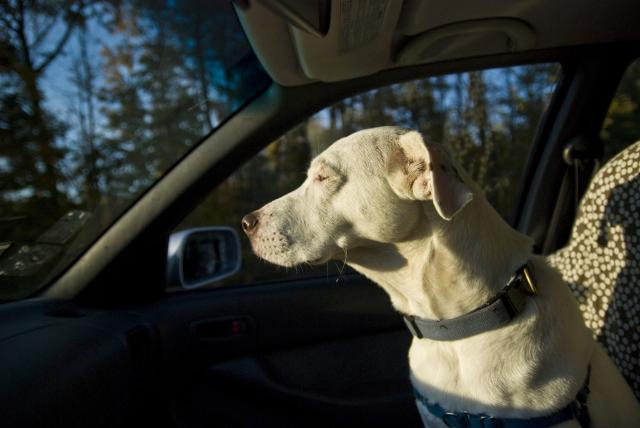Seatbelt: (544, 157, 602, 255)
